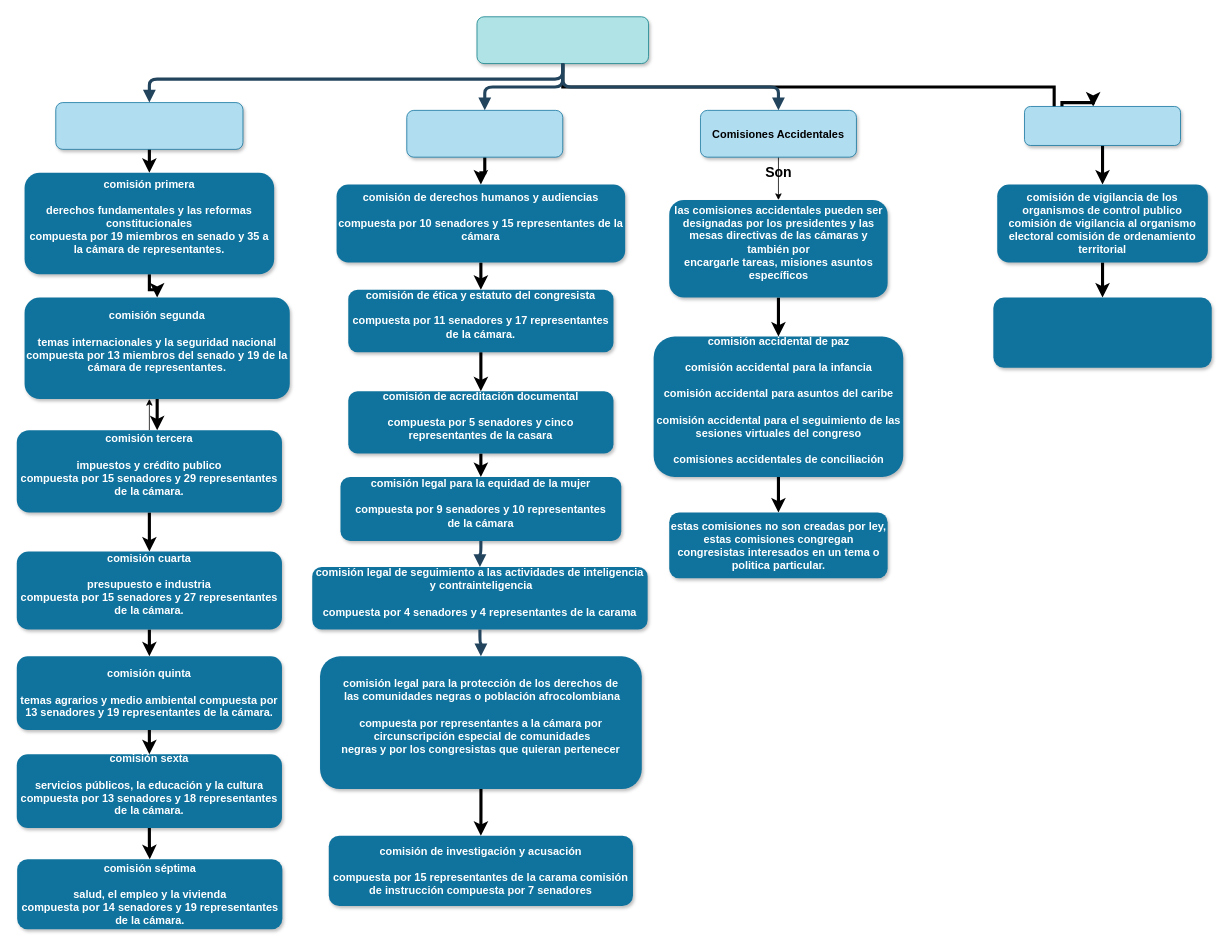
This 1229x948 diagram has some shape labels left out. The shapes that lost their labels are listed below. From the top down, each one's centre as x and y in pixels, then its label:
the point at 563,41: las comisiones
the point at 150,127: comisiones constitucionales permanentes
the point at 485,134: comisiones legales
the point at 1103,127: comisiones especiales
the point at 1103,333: comisión de crédito publico comisión de modernización
